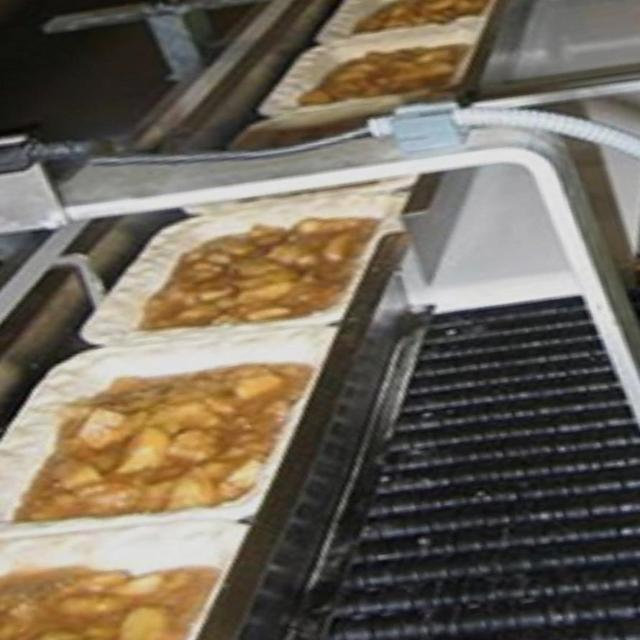food: (0, 338, 360, 534), (80, 192, 412, 342), (0, 505, 271, 640)
